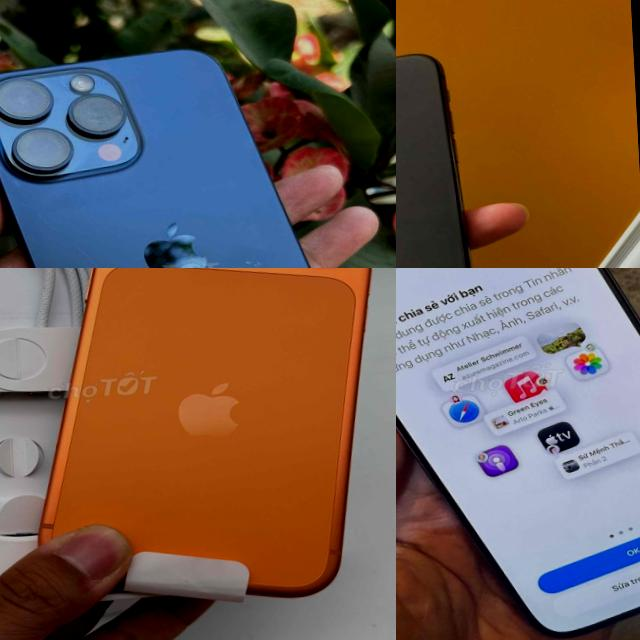gen_15: (396, 268, 640, 640), (0, 37, 387, 268)
gen_17: (32, 268, 396, 611)
scratch: (244, 255, 265, 268)
